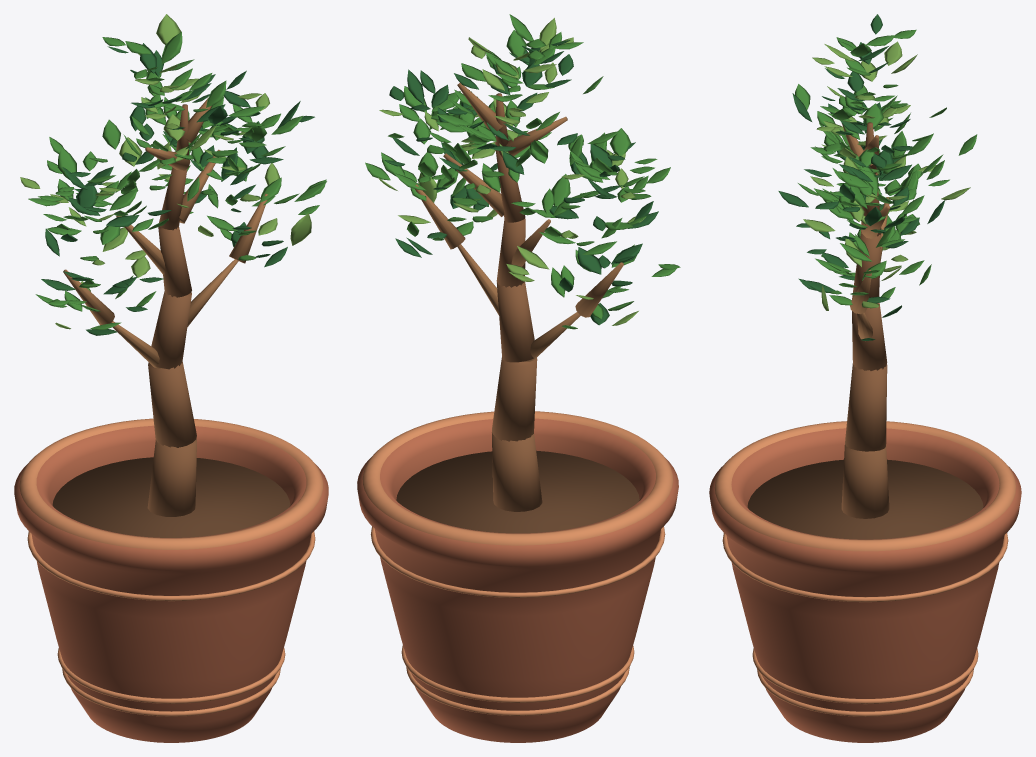
Rendered from vaso_decoracao.glb.
3 views of the same model, side by side, from view 1: azimuth 30°, elevation 25°; view 2: azimuth 150°, elevation 25°; view 3: azimuth 270°, elevation 25° (orthographic). The views are drawn at different scales.
Visible parts, largest first — view 1: Vaso_Terracota, Folhagem_Verde_1, Terra_Interna, Borda_Vaso, Folhagem_Verde_0, Folhagem_Verde_2, Tronco_Arvore, Tronco_Arvore.001, Tronco_Arvore.002, Friso_Vaso.002, Tronco_Arvore.003, Friso_Vaso.001 (+8 smaller); view 2: Vaso_Terracota, Folhagem_Verde_1, Terra_Interna, Folhagem_Verde_0, Borda_Vaso, Folhagem_Verde_2, Tronco_Arvore, Tronco_Arvore.001, Tronco_Arvore.002, Friso_Vaso.002, Friso_Vaso.001, Friso_Vaso (+9 smaller); view 3: Vaso_Terracota, Terra_Interna, Folhagem_Verde_1, Borda_Vaso, Folhagem_Verde_0, Folhagem_Verde_2, Tronco_Arvore.001, Tronco_Arvore, Friso_Vaso.002, Tronco_Arvore.002, Friso_Vaso.001, Friso_Vaso (+1 smaller).
Part boxes in pixels (x1,y1,x2,y2): Vaso_Terracota: (14,425,328,742); Folhagem_Verde_1: (28,31,326,329); Terra_Interna: (52,457,290,537); Borda_Vaso: (19,418,323,549); Folhagem_Verde_0: (41,43,314,335); Folhagem_Verde_2: (20,14,311,329); Tronco_Arvore: (147,439,196,516); Tronco_Arvore.001: (148,362,196,447); Tronco_Arvore.002: (151,291,191,369); Friso_Vaso.002: (27,531,315,601); Tronco_Arvore.003: (158,226,191,297); Friso_Vaso.001: (57,648,285,703); Vaso_Terracota: (357,418,678,742); Folhagem_Verde_1: (365,14,680,329); Terra_Interna: (396,450,639,533); Folhagem_Verde_0: (384,40,658,325); Borda_Vaso: (362,411,673,545); Folhagem_Verde_2: (378,18,645,325); Tronco_Arvore: (492,433,542,511); Tronco_Arvore.001: (492,357,537,441); Tronco_Arvore.002: (497,282,534,362); Friso_Vaso.002: (370,526,665,597); Friso_Vaso.001: (401,645,634,702); Friso_Vaso: (406,667,629,715); Vaso_Terracota: (709,428,1021,742); Terra_Interna: (747,459,983,539); Folhagem_Verde_1: (795,29,977,305); Borda_Vaso: (714,421,1016,551); Folhagem_Verde_0: (778,14,944,340); Folhagem_Verde_2: (803,41,970,310); Tronco_Arvore.001: (845,363,887,451); Tronco_Arvore: (841,444,889,518); Friso_Vaso.002: (722,533,1008,602); Tronco_Arvore.002: (852,303,887,370); Friso_Vaso.001: (752,648,978,704); Friso_Vaso: (757,669,973,716).
Bounding box in the file's own units: 1.47 × 3.25 × 1.36.
